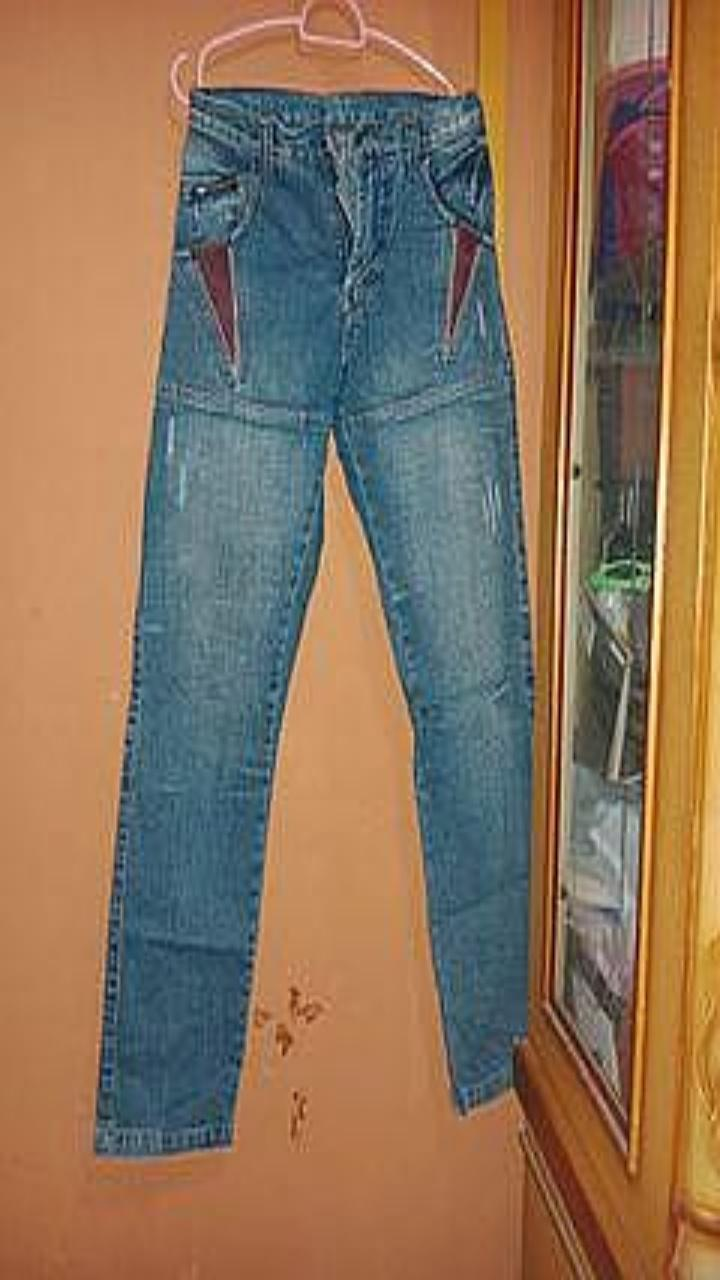Jeans: (95, 87, 533, 1156)
